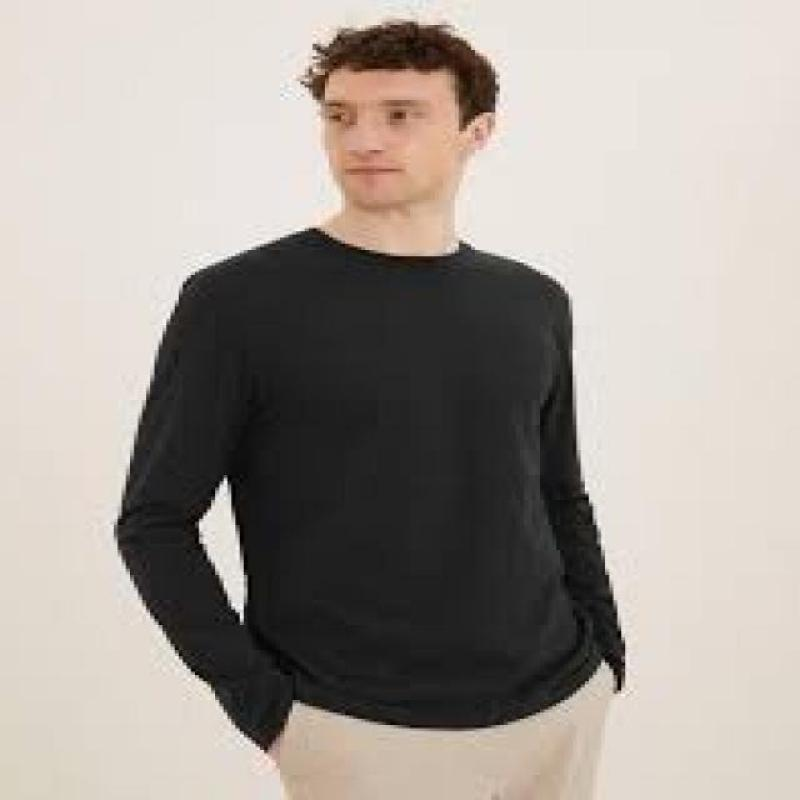long sleeve shirt: (110, 228, 629, 750)
trousers: (276, 663, 620, 800)
